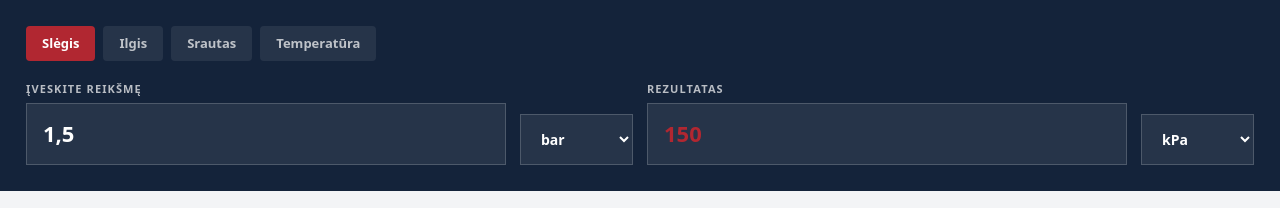
Test: UnitConverter › switches to Length and converts m → cm
The width and height of the screenshot is (1280, 208).
Step 1. Click the button "Ilgis" → (133, 43), box [104,26,163,61]
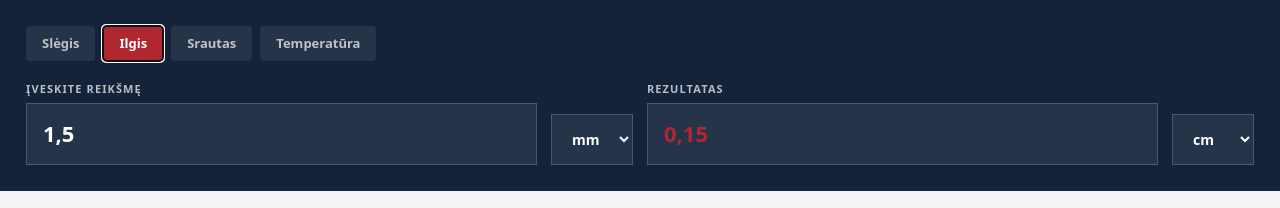
Now the text "0,15" is shown, box [647,103,1158,165]
